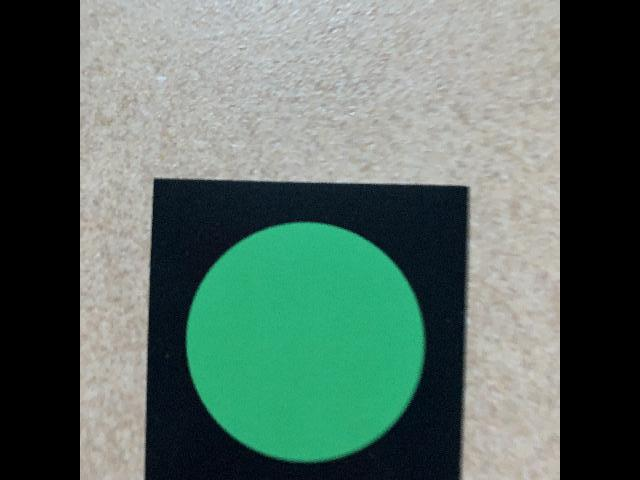go: (142, 177, 472, 478)
